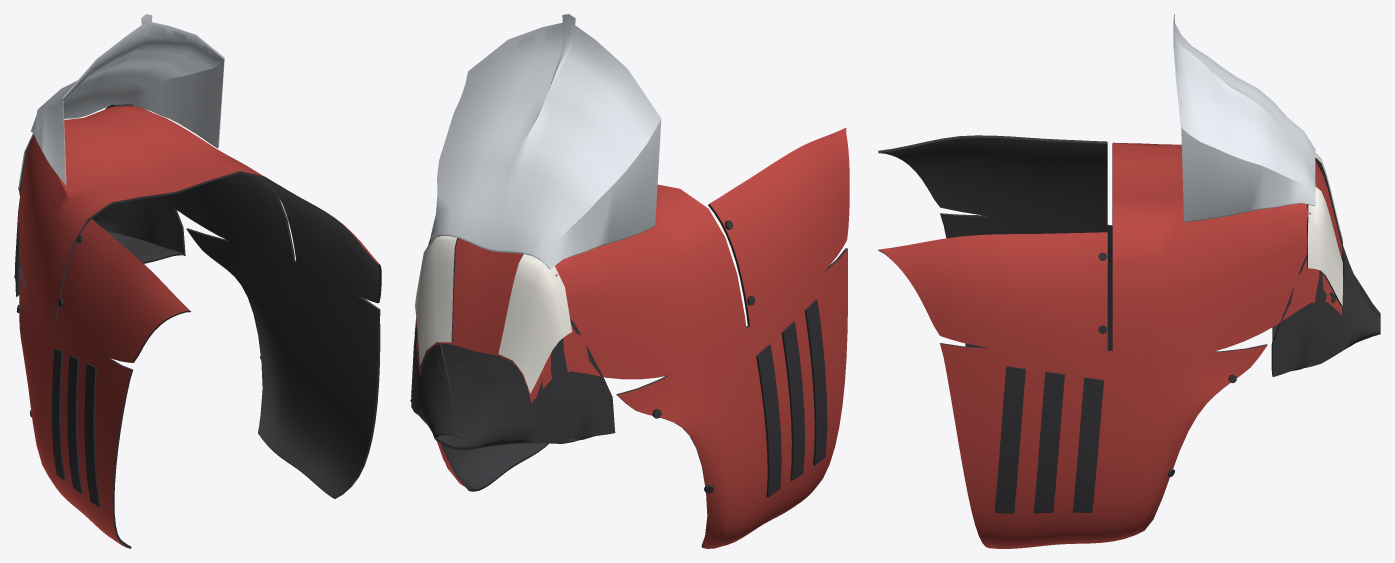
File: adventure.glb
The picture shows the model from 3 angles, left to right: view 1: azimuth 30°, elevation 25°; view 2: azimuth 150°, elevation 25°; view 3: azimuth 270°, elevation 25°; orthographic projection. The views are drawn at different scales.
Parts seen in each view (by area): view 1: lod0; view 2: lod0; view 3: lod0.
Part boxes in pixels (x1=…): lod0: x1=14, y1=14, x2=381, y2=548; lod0: x1=410, y1=14, x2=849, y2=548; lod0: x1=878, y1=14, x2=1380, y2=548.
Size of what is drawn, in the model's own units: 0.5408 by 0.8611 by 0.815.
